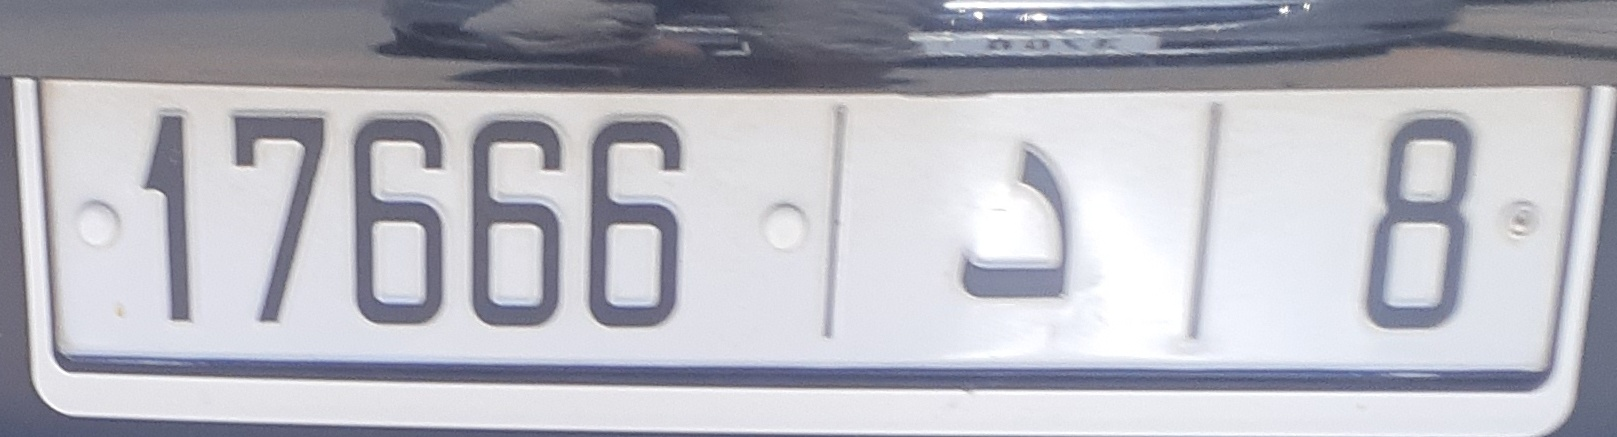1: (122, 91, 210, 344)
6: (332, 98, 458, 332), (575, 105, 689, 344), (458, 103, 568, 341)
7: (224, 98, 343, 334)
8: (1343, 105, 1505, 337)
d: (916, 131, 1109, 317)
